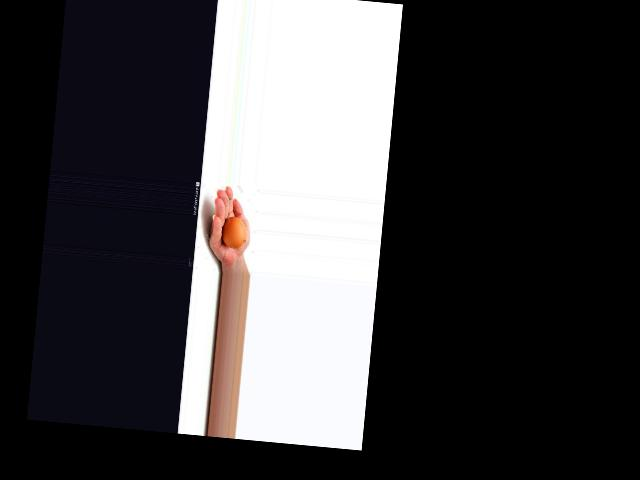egg: (220, 216, 248, 249)
